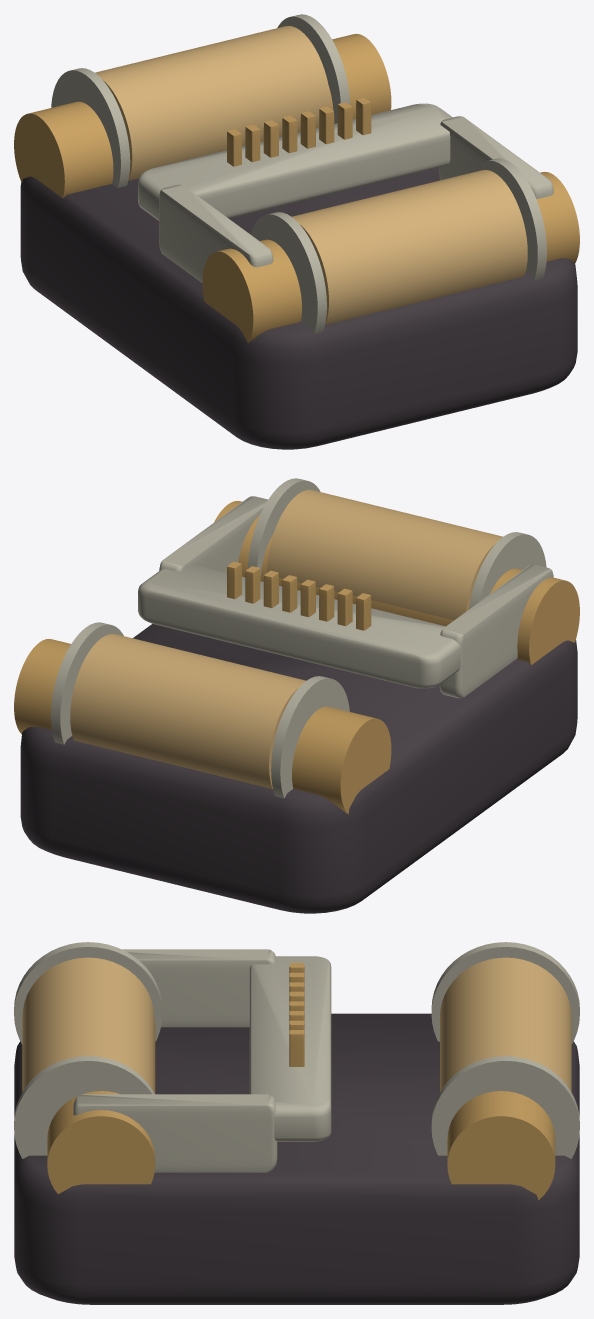
File: Metropolitan.glb
3 renders of one model, top to bottom at view 1: azimuth 30°, elevation 25°; view 2: azimuth 150°, elevation 25°; view 3: azimuth 270°, elevation 25°, orthographic. The views are drawn at different scales.
Parts seen in each view (by area): view 1: Recorder casing, Wound paper (×2), Tape axle (×2), Reader throat, Feed reel lip (×4), Ribbon guard (×2), Reader spring (×7); view 2: Recorder casing, Wound paper (×2), Reader throat, Tape axle (×2), Feed reel lip (×4), Ribbon guard (×2), Reader spring (×7); view 3: Recorder casing, Wound paper (×2), Ribbon guard (×2), Feed reel lip (×4), Tape axle (×2), Reader throat, Reader spring.
Boxes of the visible parts, x1,y1,x2,y2 form: Recorder casing: [20, 167, 577, 449]; Wound paper (×2): [95, 26, 527, 324]; Tape axle (×2): [14, 33, 579, 343]; Reader throat: [138, 103, 452, 220]; Feed reel lip (×4): [51, 14, 546, 334]; Ribbon guard (×2): [159, 116, 553, 283]; Reader spring (×7): [245, 97, 371, 162]; Recorder casing: [20, 624, 577, 913]; Wound paper (×2): [70, 490, 502, 788]; Reader throat: [138, 564, 460, 688]; Tape axle (×2): [14, 500, 579, 814]; Feed reel lip (×4): [51, 478, 546, 798]; Ribbon guard (×2): [159, 496, 553, 698]; Reader spring (×7): [245, 566, 371, 630]; Recorder casing: [14, 1013, 579, 1304]; Wound paper (×2): [22, 957, 571, 1091]; Ribbon guard (×2): [73, 949, 277, 1172]; Feed reel lip (×4): [14, 942, 579, 1158]; Tape axle (×2): [47, 1017, 555, 1200]; Reader throat: [249, 956, 331, 1141]; Reader spring: [289, 1030, 304, 1066].
Bounding box in the file's own units: 0.9471 × 0.5675 × 1.3.
